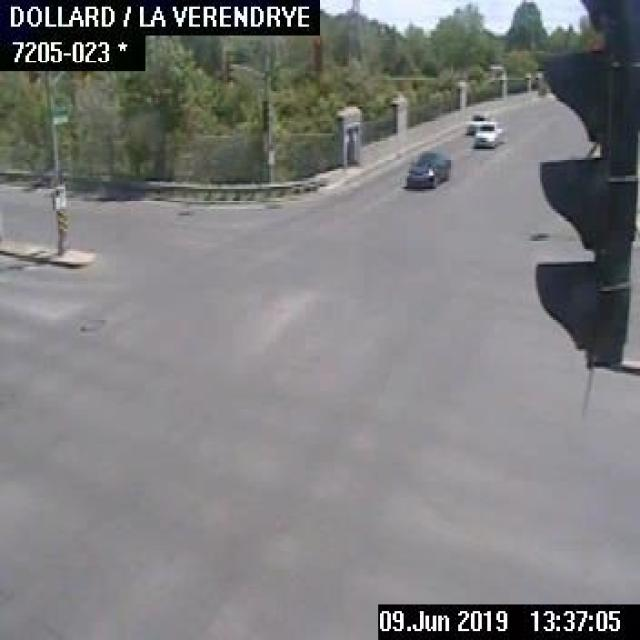vehicle: (402, 147, 447, 189), (463, 110, 496, 134), (471, 122, 504, 146)
